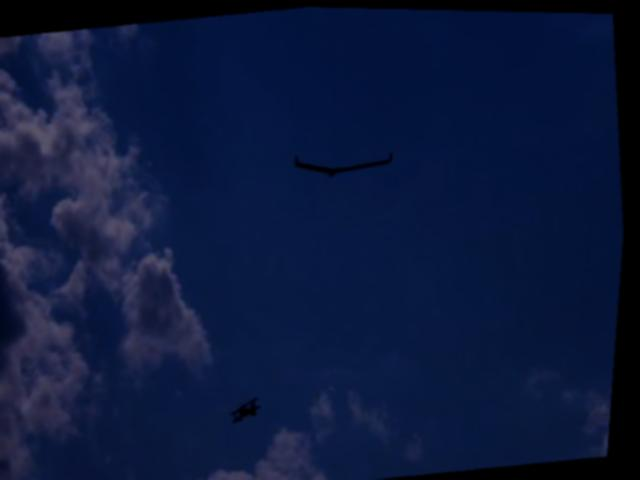flying wing: (294, 142, 402, 183)
